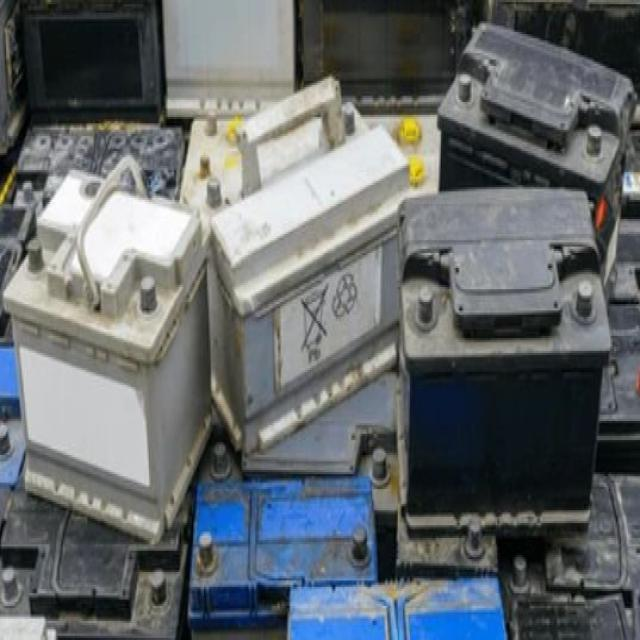electronic: (382, 157, 623, 556)
